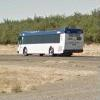Bus: (13, 25, 84, 59)
